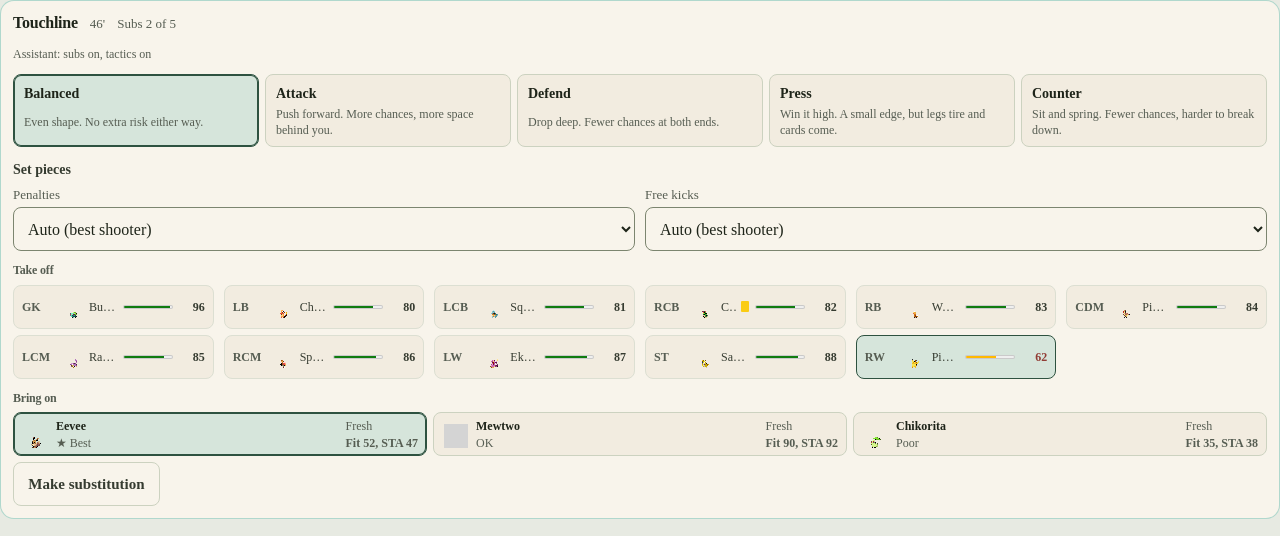
Touchline intelligence (catches a touchline that hides the assistant's state, the bench's fit or a booking) › with ratings on, bench cards add the fit score for the outgoing slot and STA
Expected: the text "Fit 52, STA 47" is shown, [346,435,418,451]
Click the button with test id "energy-slot-4" at (956,307), box [856,285,1056,329]
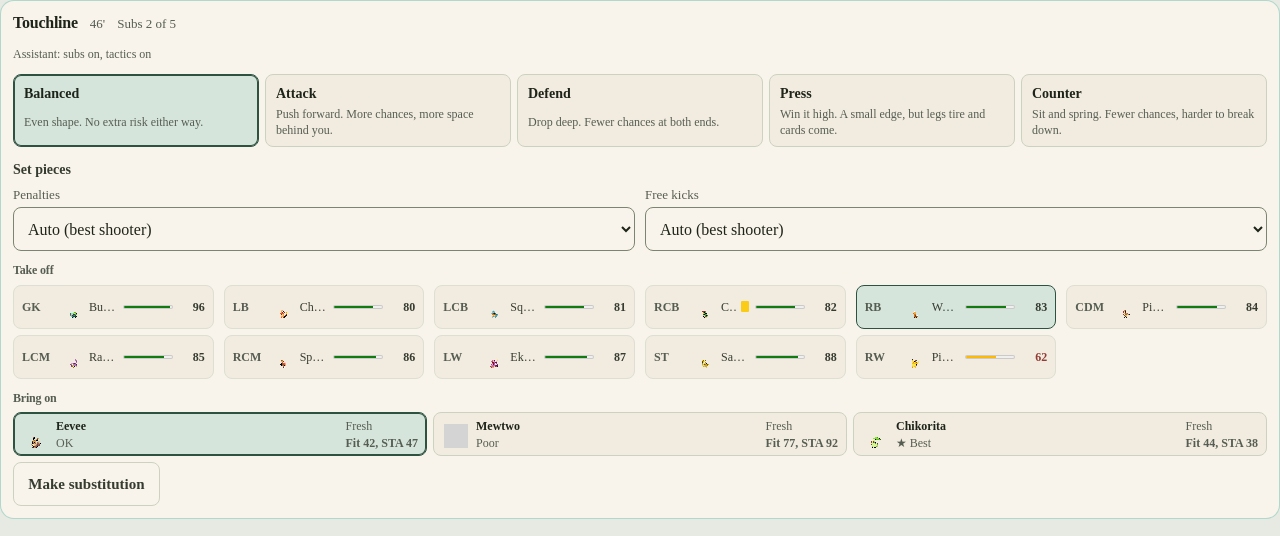
Now the text "Fit 42, STA 47" is shown, box [346,435,418,451]
